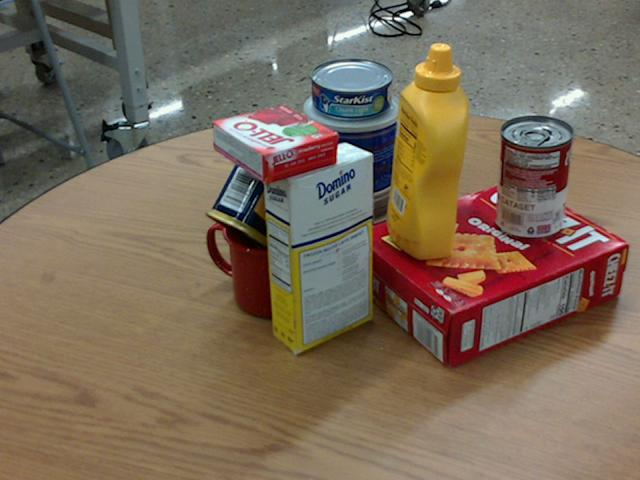cracker_box: (353, 177, 626, 368)
gelatin_box: (211, 103, 338, 183)
large_marker: (433, 124, 454, 227)
master_chef_can: (306, 85, 403, 241)
mug: (205, 201, 315, 316)
mustard_bottle: (386, 42, 468, 259)
potted_meat_can: (205, 136, 327, 262)
sugar_box: (261, 142, 372, 352)
tomato_soup_can: (495, 114, 573, 238)
tuna_fish_can: (311, 58, 393, 118)
